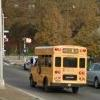Bus: (23, 41, 90, 94)
